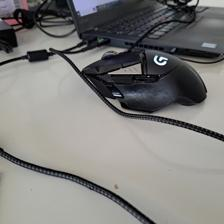mouse: (79, 46, 209, 113)
